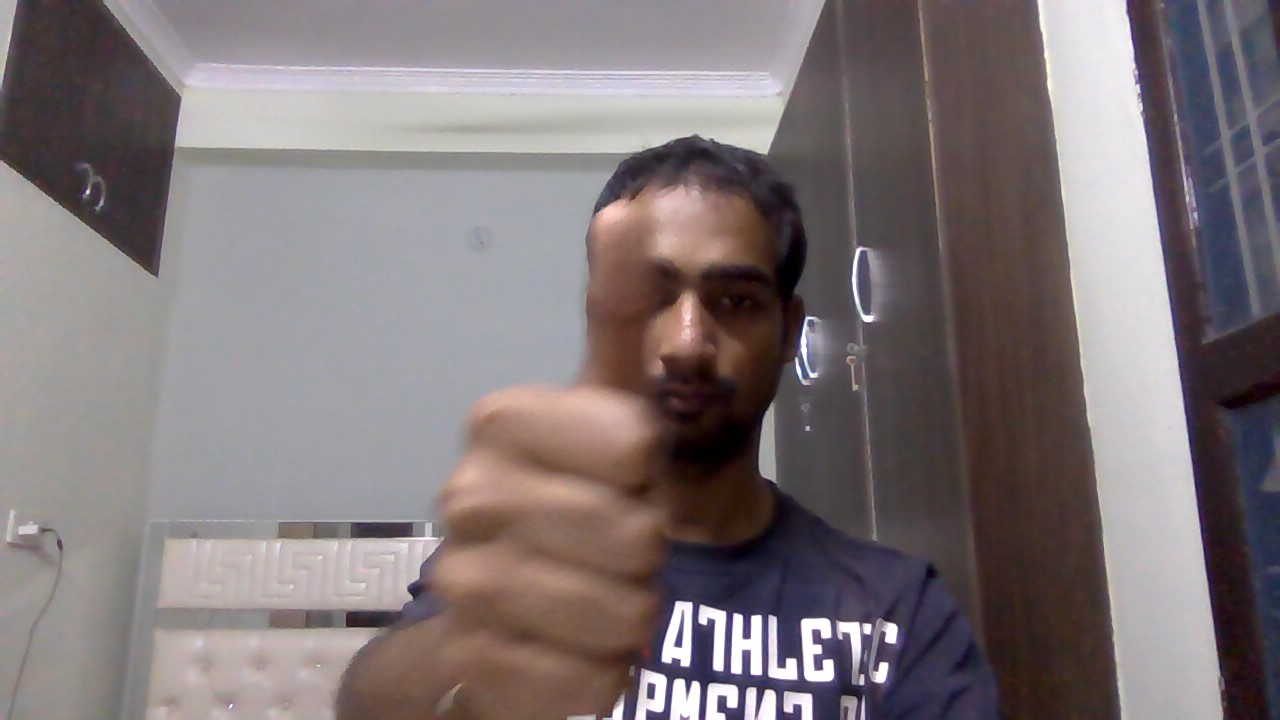Save: (401, 187, 729, 720)
